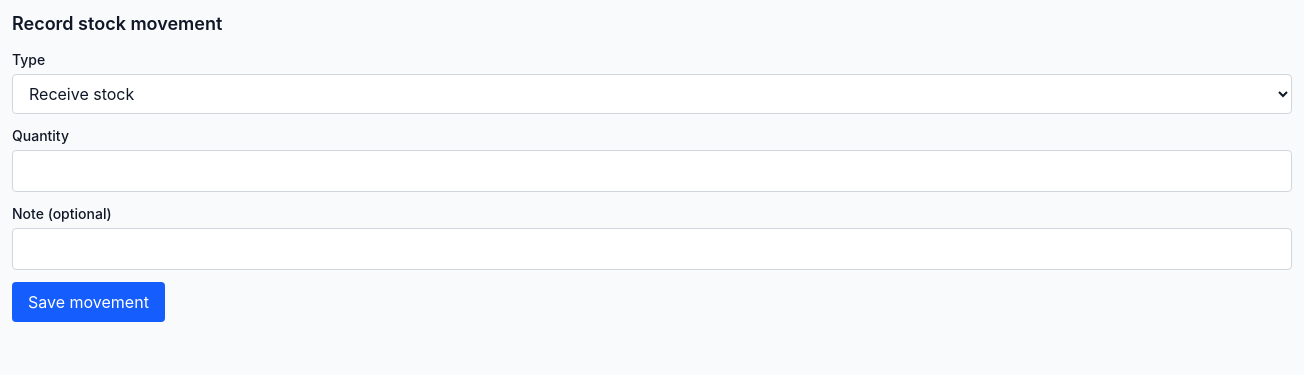
Test: MovementForm › shows the server message when an issue is rejected, and keeps the form usable
Select "Issue stock" in the dropdown labelled "Type": (652, 94) [12,74,1292,114]
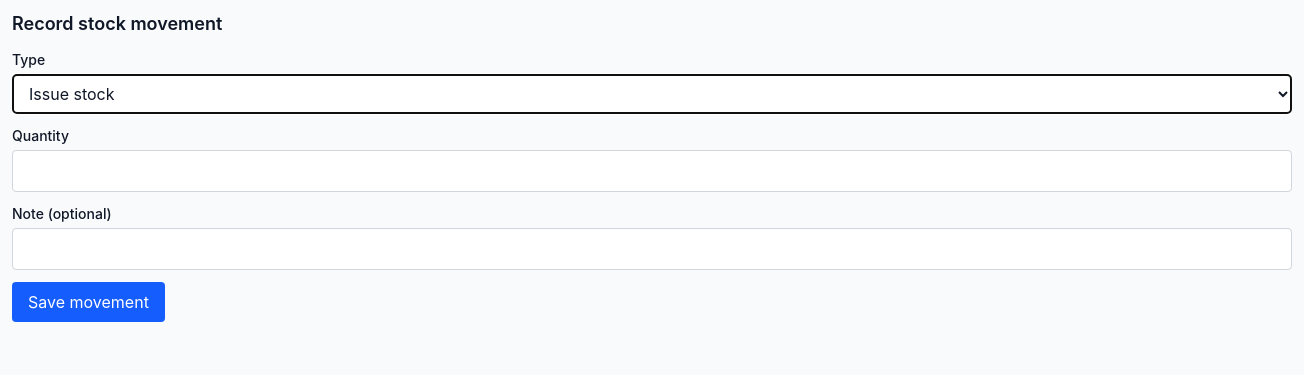
In the number field labelled "Quantity": (652, 171) [12,150,1292,192], type "100"
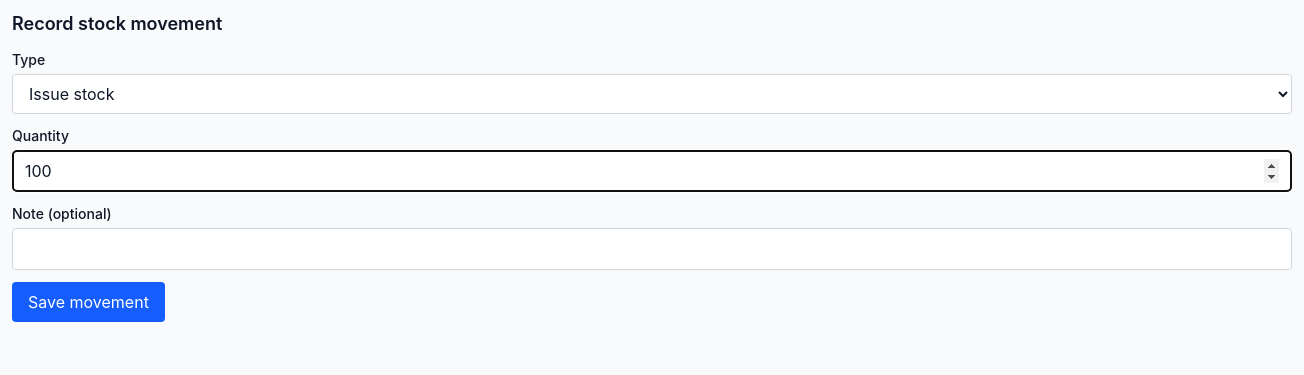
Click the button "Save movement": (88, 302) [12,282,165,322]
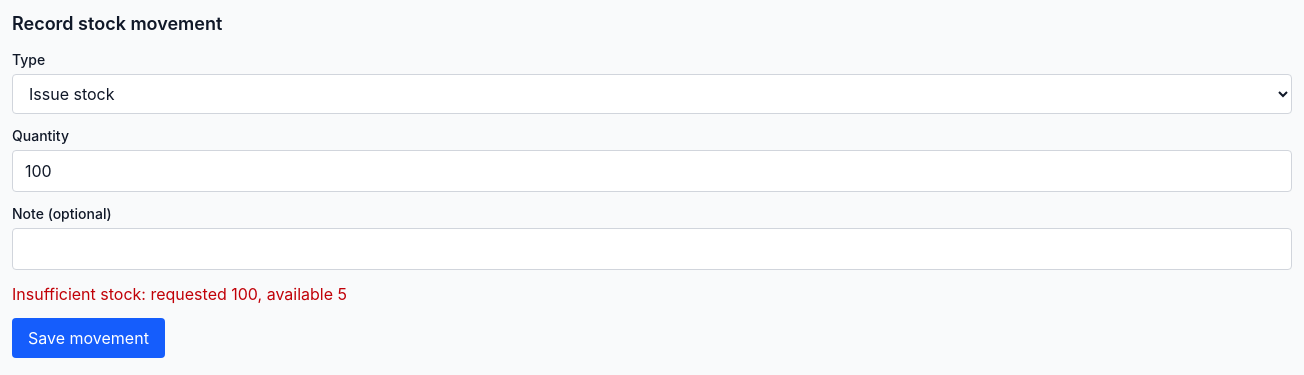
Expected: the button "Save movement" is enabled, [12,318,165,358]
Expected: the message reads "Insufficient stock: requested 100, available 5", [12,284,347,304]
